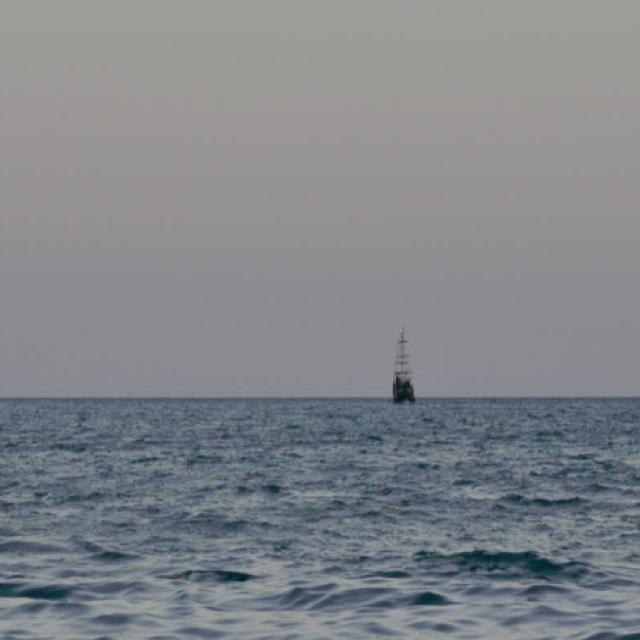fishing boat: (380, 322, 416, 406)
